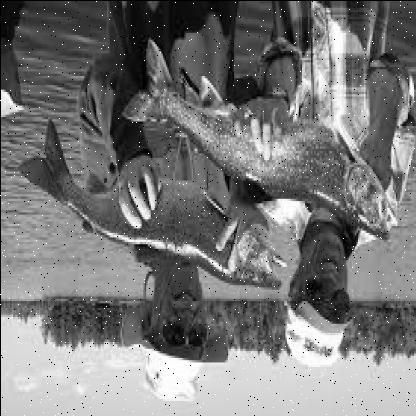fish: (123, 37, 398, 240), (19, 124, 295, 292)
